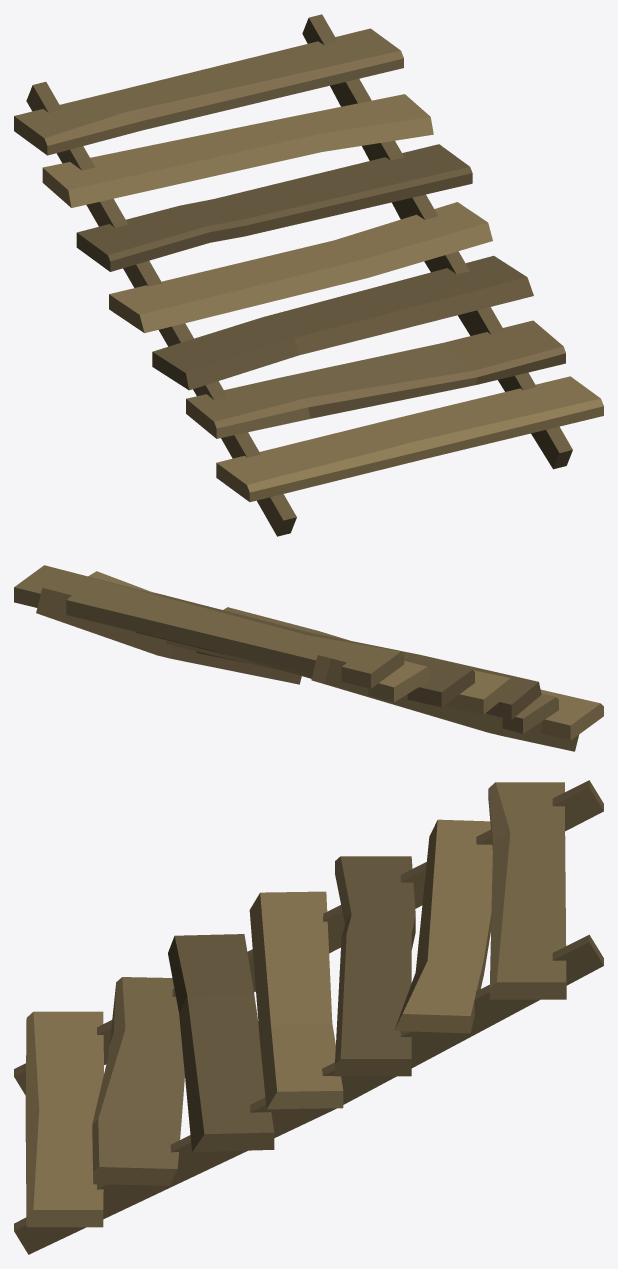
The model's file is DockStairs.fbx.
The picture shows the model from 3 angles, top to bottom: view 1: azimuth 30°, elevation 25°; view 2: azimuth 150°, elevation 25°; view 3: azimuth 270°, elevation 25°; orthographic projection. The views are drawn at different scales.
Visible parts, largest first — view 1: DockStairs; view 2: DockStairs; view 3: DockStairs.
Part boxes in pixels (x1=…): DockStairs: x1=14, y1=14, x2=603, y2=536; DockStairs: x1=14, y1=565, x2=603, y2=751; DockStairs: x1=14, y1=780, x2=603, y2=1254.
Size of the model in its own units: 259 by 184 by 314.
